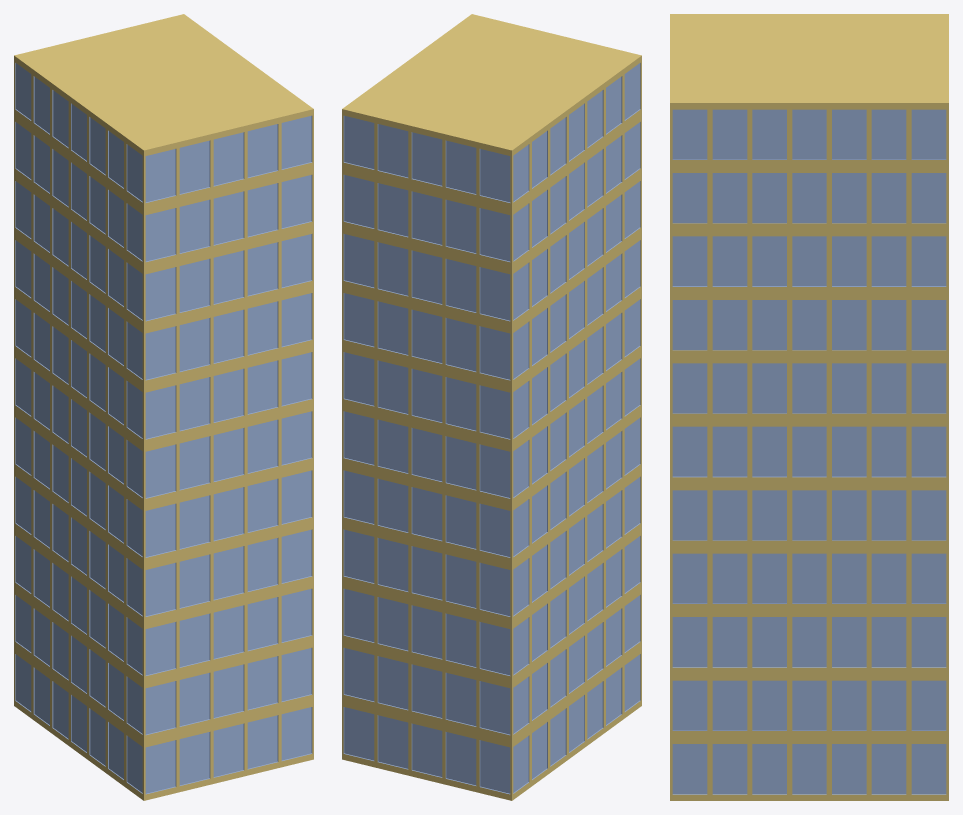
The model's file is bat2.fbx.
3 renders of one model, left to right at view 1: azimuth 30°, elevation 25°; view 2: azimuth 150°, elevation 25°; view 3: azimuth 270°, elevation 25°, orthographic. The views are drawn at different scales.
Parts seen in each view (by area): view 1: Cube.001; view 2: Cube.001; view 3: Cube.001.
Part boxes in pixels (x1=…): Cube.001: x1=14, y1=14, x2=313, y2=800; Cube.001: x1=342, y1=14, x2=641, y2=800; Cube.001: x1=670, y1=14, x2=948, y2=800.
Size of the model in its own units: 6341 by 23179 by 8389.
